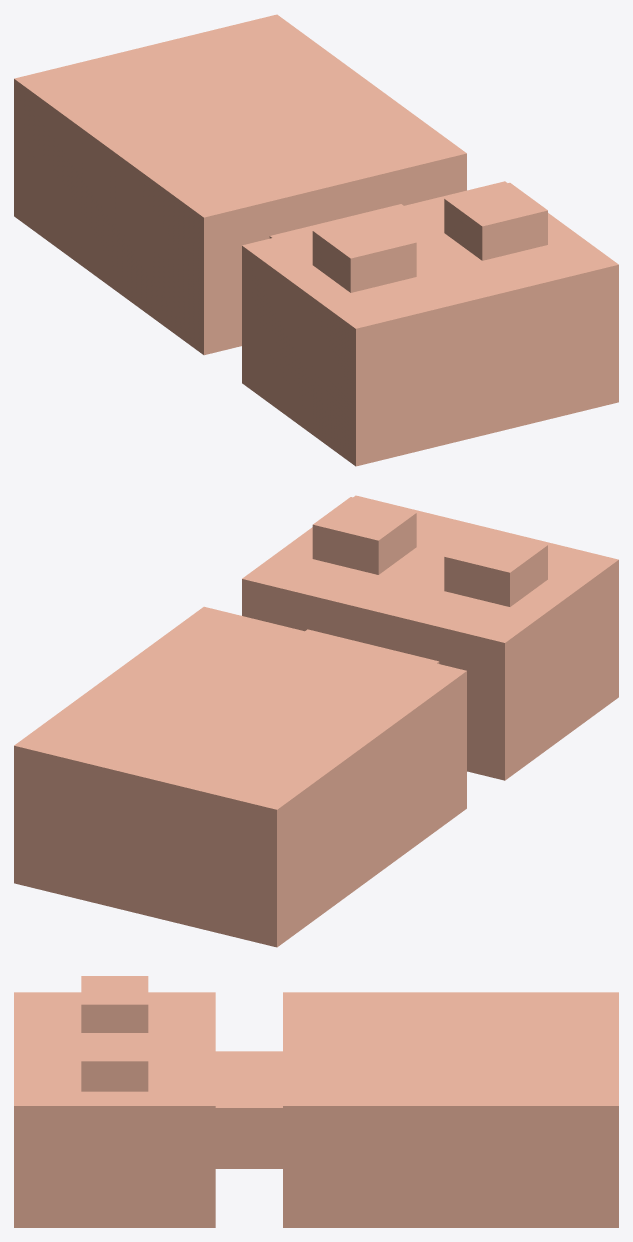
Rendered from bombelek.fbx.
3 renders of one model, top to bottom at view 1: azimuth 30°, elevation 25°; view 2: azimuth 150°, elevation 25°; view 3: azimuth 270°, elevation 25°, orthographic. The views are drawn at different scales.
Parts seen in each view (by area): view 1: cuboid, cuboid_1, cuboid_4, cuboid_3; view 2: cuboid, cuboid_1, cuboid_3, cuboid_4; view 3: cuboid, cuboid_1, cuboid_2, cuboid_3, cuboid_4.
Part boxes in pixels (left/top/right/bottom): cuboid: left=14, top=14, right=466, bottom=355; cuboid_1: left=242, top=181, right=618, bottom=466; cuboid_4: left=312, top=215, right=416, bottom=292; cuboid_3: left=444, top=182, right=547, bottom=260; cuboid: left=14, top=606, right=466, bottom=947; cuboid_1: left=242, top=495, right=618, bottom=780; cuboid_3: left=312, top=497, right=416, bottom=574; cuboid_4: left=444, top=529, right=547, bottom=606; cuboid: left=283, top=992, right=618, bottom=1227; cuboid_1: left=14, top=992, right=215, bottom=1227; cuboid_2: left=215, top=1051, right=282, bottom=1168; cuboid_3: left=81, top=1033, right=148, bottom=1091; cuboid_4: left=81, top=976, right=148, bottom=1032.
Size of the model in its own units: 25 by 15.62 by 56.25.
1 material, 1 textured.
